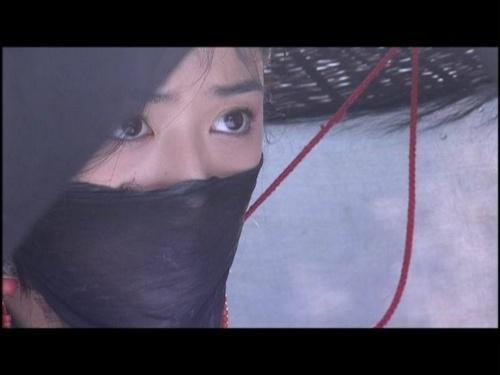WRONG: (58, 83, 260, 289)
